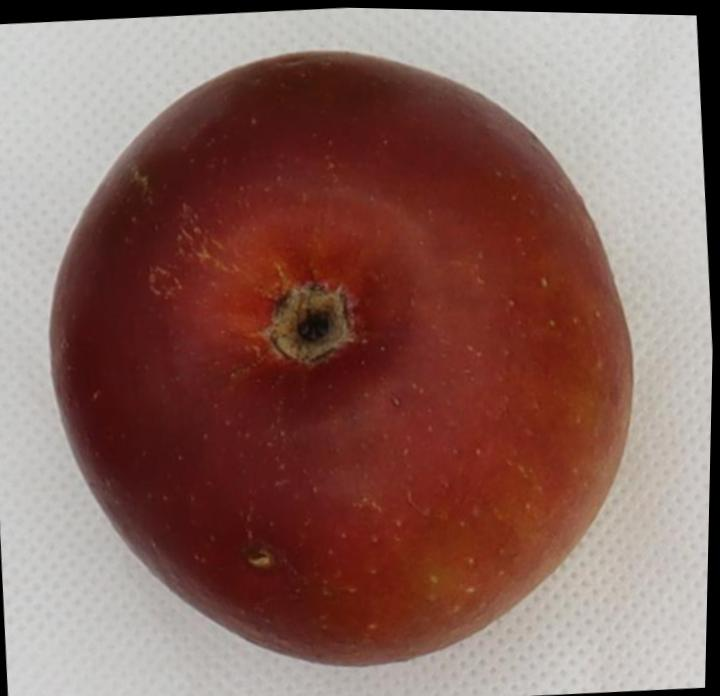apple: (51, 53, 632, 666)
surface_damage: (247, 547, 275, 569)
